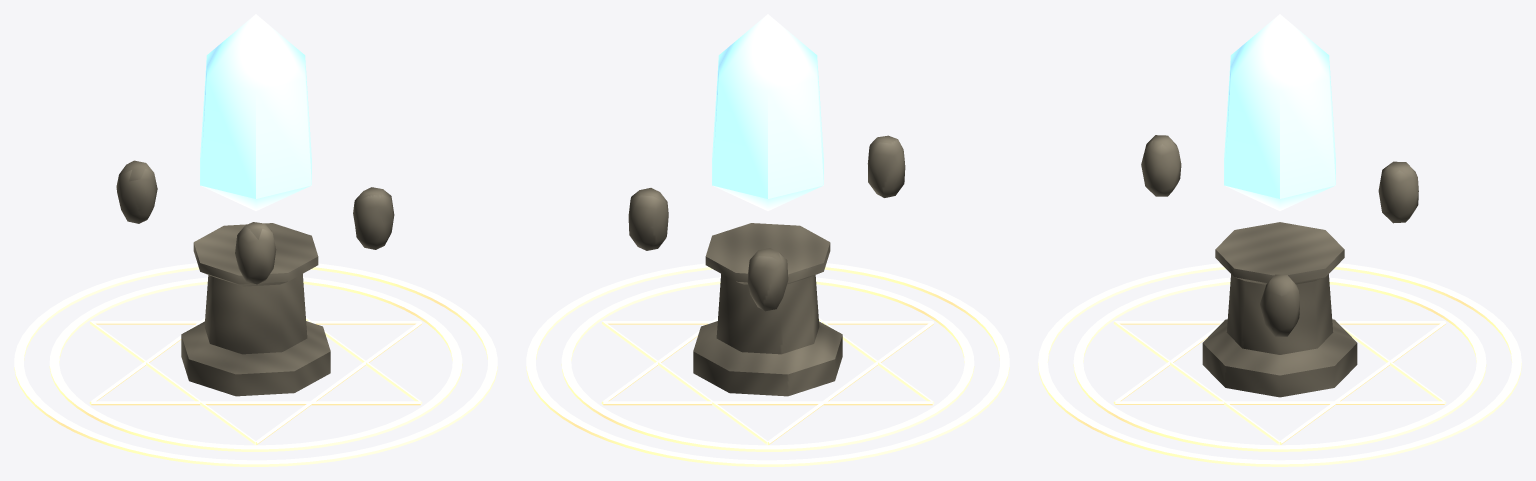
File: Furn_MagicClub_FloatingCrystal.fbx
The picture shows the model from 3 angles, left to right: view 1: azimuth 30°, elevation 25°; view 2: azimuth 150°, elevation 25°; view 3: azimuth 270°, elevation 25°; orthographic projection.
Visible parts, largest first — view 1: Furn_MagicClub_FloatingCrystal; view 2: Furn_MagicClub_FloatingCrystal; view 3: Furn_MagicClub_FloatingCrystal.
Boxes of the visible parts, x1,y1,x2,y2 form: Furn_MagicClub_FloatingCrystal: (14,14,497,466); Furn_MagicClub_FloatingCrystal: (526,14,1009,466); Furn_MagicClub_FloatingCrystal: (1038,14,1521,466).
Bounding box in the file's own units: 3 × 2.4 × 3.
3 materials, 1 textured.
